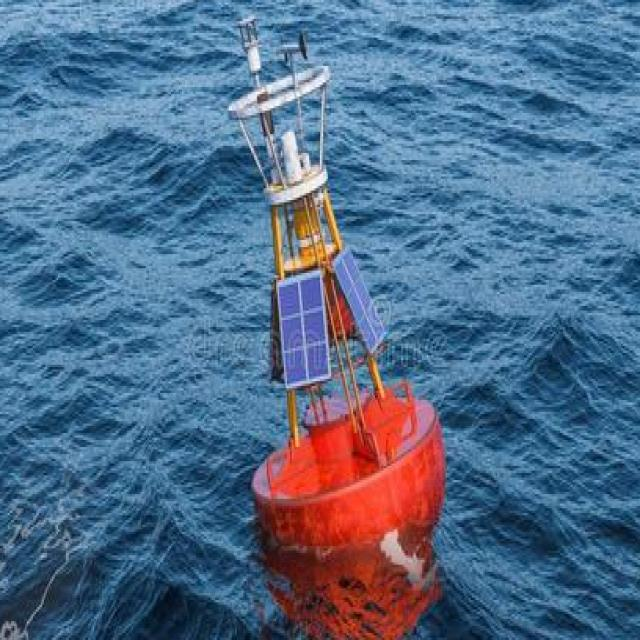buoy: (223, 8, 447, 550)
